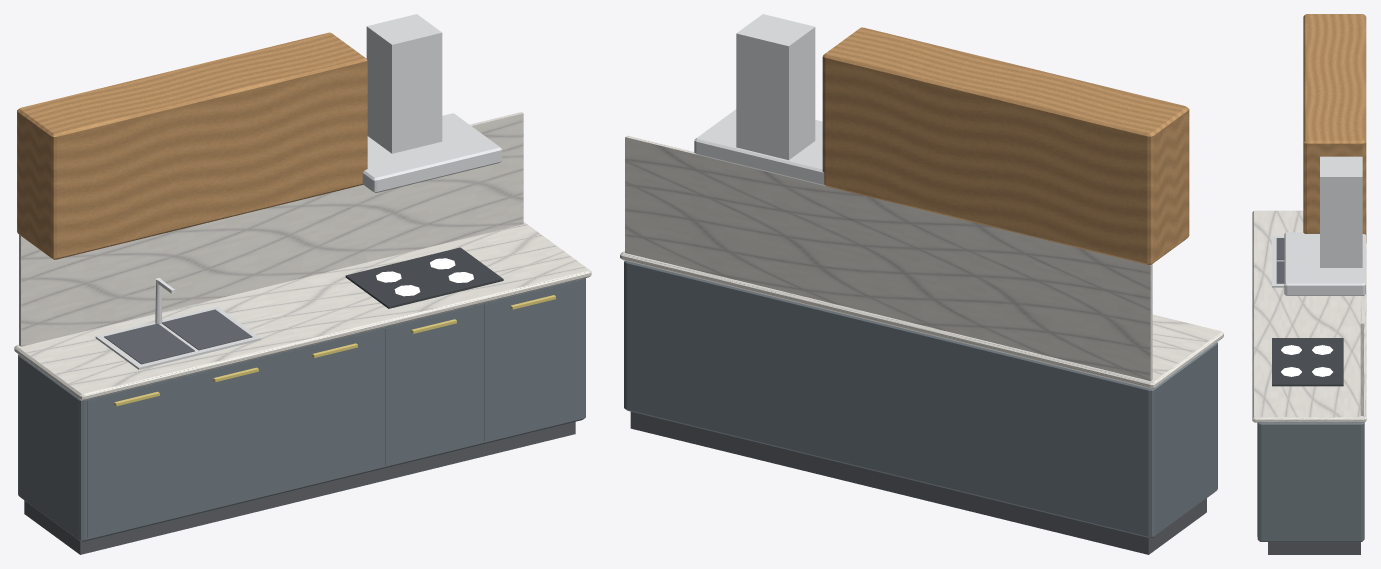
File: kitchen_system_i.glb
The picture shows the model from 3 angles, left to right: view 1: azimuth 30°, elevation 25°; view 2: azimuth 150°, elevation 25°; view 3: azimuth 270°, elevation 25°; orthographic projection. The views are drawn at different scales.
Parts seen in each view (by area): view 1: kitchen_system_i_kitchenCabinet, kitchen_system_i_marbleCarrara, kitchen_system_i_woodOak, kitchen_system_i_stainlessSteel, kitchen_system_i_metalBlack, kitchen_system_i_cooktopGlass, kitchen_system_i_metalBrass, kitchen_system_i_emissiveWarm; view 2: kitchen_system_i_kitchenCabinet, kitchen_system_i_marbleCarrara, kitchen_system_i_woodOak, kitchen_system_i_stainlessSteel, kitchen_system_i_metalBlack; view 3: kitchen_system_i_marbleCarrara, kitchen_system_i_kitchenCabinet, kitchen_system_i_woodOak, kitchen_system_i_stainlessSteel, kitchen_system_i_cooktopGlass, kitchen_system_i_metalBlack, kitchen_system_i_emissiveWarm.
Boxes of the visible parts, bbox=[...] form: kitchen_system_i_kitchenCabinet: bbox=[18, 278, 585, 541]; kitchen_system_i_marbleCarrara: bbox=[14, 112, 591, 400]; kitchen_system_i_woodOak: bbox=[17, 32, 367, 259]; kitchen_system_i_stainlessSteel: bbox=[95, 14, 501, 369]; kitchen_system_i_metalBlack: bbox=[24, 309, 575, 554]; kitchen_system_i_cooktopGlass: bbox=[345, 247, 503, 308]; kitchen_system_i_metalBrass: bbox=[114, 295, 555, 406]; kitchen_system_i_emissiveWarm: bbox=[376, 258, 473, 296]; kitchen_system_i_kitchenCabinet: bbox=[624, 260, 1217, 538]; kitchen_system_i_marbleCarrara: bbox=[620, 135, 1223, 388]; kitchen_system_i_woodOak: bbox=[822, 27, 1189, 264]; kitchen_system_i_stainlessSteel: bbox=[694, 14, 825, 186]; kitchen_system_i_metalBlack: bbox=[630, 411, 1206, 554]; kitchen_system_i_marbleCarrara: bbox=[1252, 210, 1366, 422]; kitchen_system_i_kitchenCabinet: bbox=[1257, 422, 1364, 541]; kitchen_system_i_woodOak: bbox=[1303, 14, 1366, 242]; kitchen_system_i_stainlessSteel: bbox=[1272, 156, 1365, 295]; kitchen_system_i_cooktopGlass: bbox=[1272, 338, 1343, 386]; kitchen_system_i_metalBlack: bbox=[1268, 238, 1360, 554]; kitchen_system_i_emissiveWarm: bbox=[1281, 345, 1332, 376].
Size of what is drawn, in the model's own units: 2.8 by 2.12 by 0.65.
9 materials, 2 textured.
